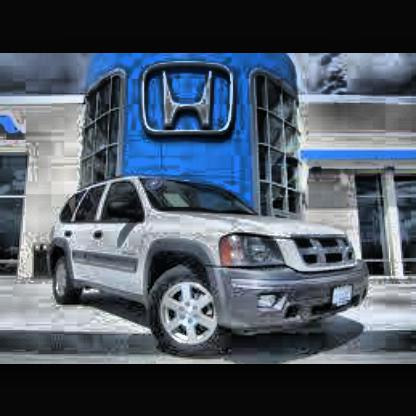Isuzu Ascender SUV 2008: (43, 164, 365, 364)
